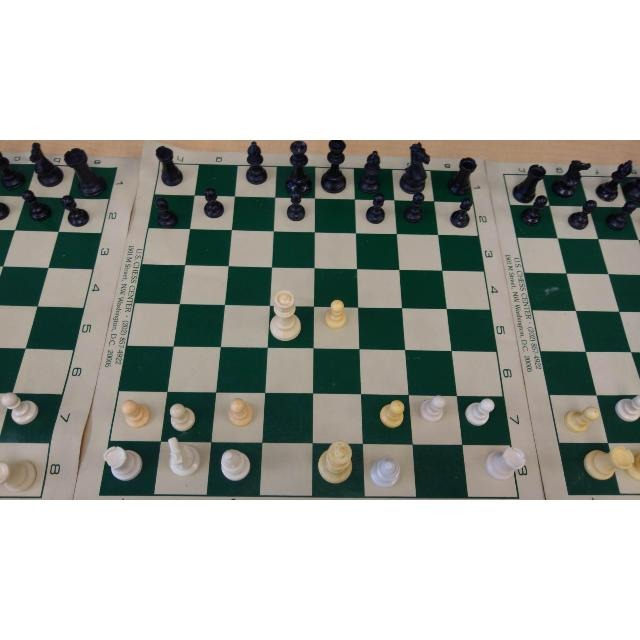black-bishop: (595, 158, 634, 203), (0, 148, 28, 192), (244, 140, 270, 187), (357, 148, 383, 193)
black-king: (320, 140, 349, 196)
black-knight: (26, 141, 65, 189), (549, 157, 592, 198), (399, 142, 431, 196)
black-pawn: (19, 188, 52, 224), (604, 198, 638, 232), (564, 196, 597, 231), (59, 193, 91, 229), (519, 195, 548, 227), (401, 189, 425, 226), (153, 196, 179, 230), (448, 195, 473, 229), (201, 186, 225, 220), (283, 190, 307, 224), (364, 190, 387, 225), (0, 197, 10, 223)
black-queen: (284, 140, 314, 198)
black-rook: (61, 146, 108, 198), (512, 162, 548, 204), (444, 157, 479, 199), (152, 145, 185, 187)
white-bishop: (218, 445, 252, 484), (368, 455, 403, 491)
white-king: (315, 438, 354, 485)
white-knight: (164, 435, 202, 479)
white-pawn: (0, 390, 39, 426), (561, 404, 601, 436), (120, 397, 154, 431), (464, 396, 498, 429), (418, 393, 448, 424), (226, 396, 255, 428), (168, 400, 196, 433), (321, 297, 348, 330), (613, 390, 639, 424), (379, 398, 405, 429)
white-queen: (268, 287, 302, 343)
white-rook: (582, 444, 634, 484), (102, 444, 144, 484), (485, 444, 527, 481), (0, 455, 37, 494)
